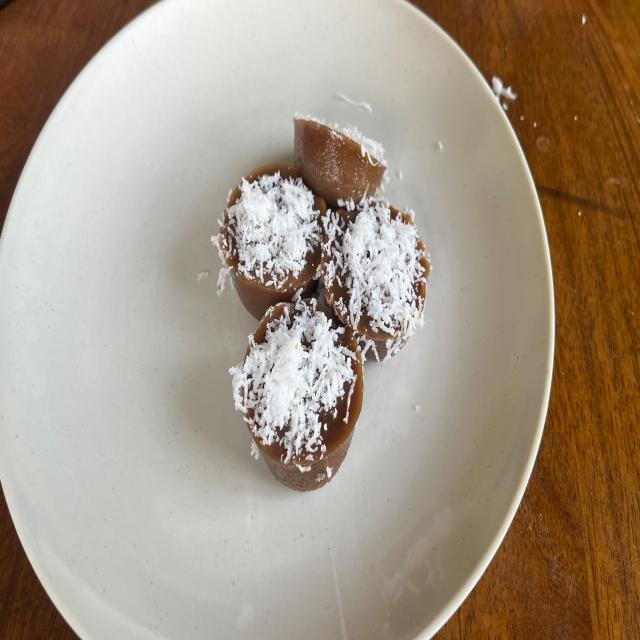Kuih lompang: (230, 300, 362, 491), (320, 198, 431, 360), (214, 164, 326, 318), (294, 113, 388, 209)
